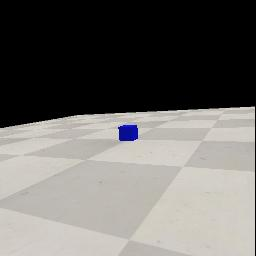box: (118, 125, 138, 141)
